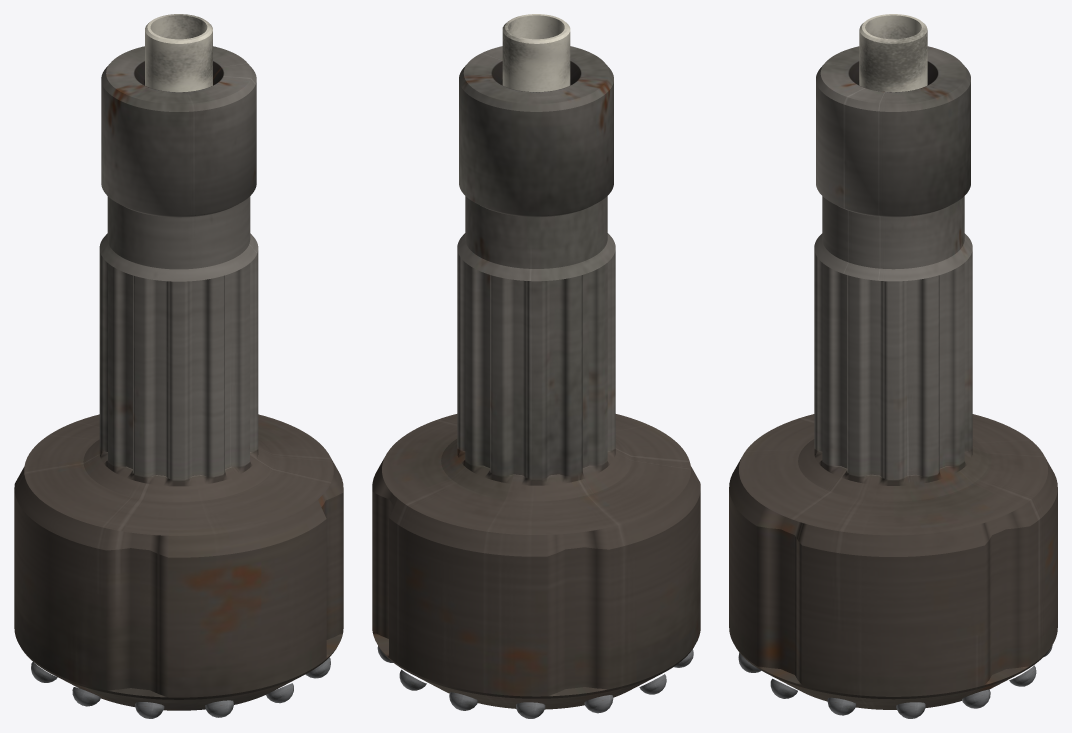
File: SM_Bit_8po.glb
The picture shows the model from 3 angles, left to right: view 1: azimuth 30°, elevation 25°; view 2: azimuth 150°, elevation 25°; view 3: azimuth 270°, elevation 25°; orthographic projection.
Parts seen in each view (by area): view 1: Bit_8po, Bit_8po_TubeDePied, Bit_8po_Boutons; view 2: Bit_8po, Bit_8po_TubeDePied, Bit_8po_Boutons; view 3: Bit_8po, Bit_8po_TubeDePied, Bit_8po_Boutons.
Part boxes in pixels (x1,y1,x2,y2): Bit_8po: [14, 46, 343, 710]; Bit_8po_TubeDePied: [145, 14, 212, 92]; Bit_8po_Boutons: [31, 657, 330, 718]; Bit_8po: [372, 46, 700, 709]; Bit_8po_TubeDePied: [502, 14, 570, 91]; Bit_8po_Boutons: [377, 646, 693, 718]; Bit_8po: [729, 46, 1057, 709]; Bit_8po_TubeDePied: [859, 14, 927, 92]; Bit_8po_Boutons: [738, 645, 1052, 718].
Size of the model in its own units: 0.2032 by 0.4377 by 0.2032.
Materials: 3 (3 with a texture image).
